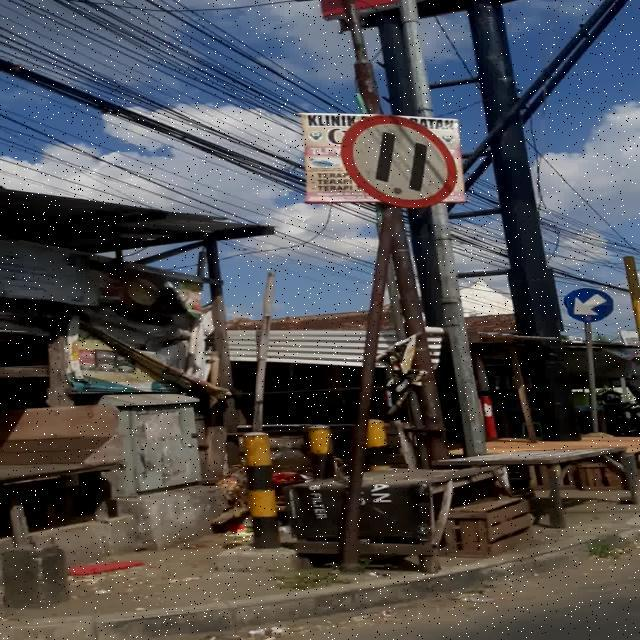Larangan Muatan - 10 ton: (341, 115, 456, 208)
